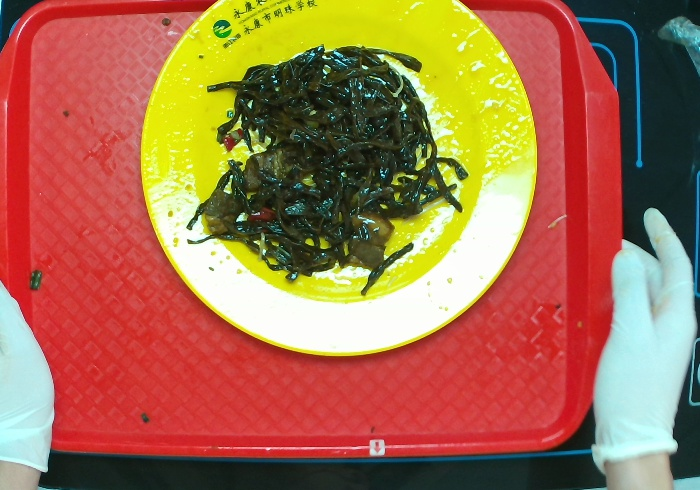YKMZ-Huang_Se_Mian_Pan: (131, 1, 549, 365)
